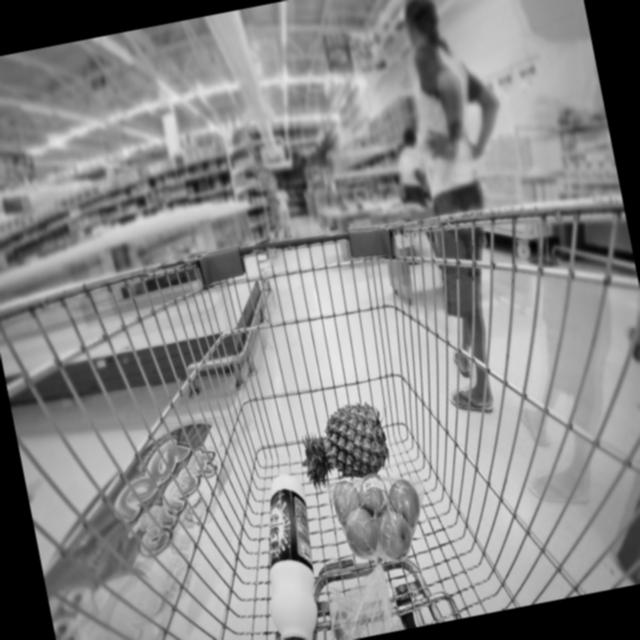dua: (290, 398, 393, 490)
sua: (241, 473, 337, 640)
tao: (328, 466, 432, 570)
